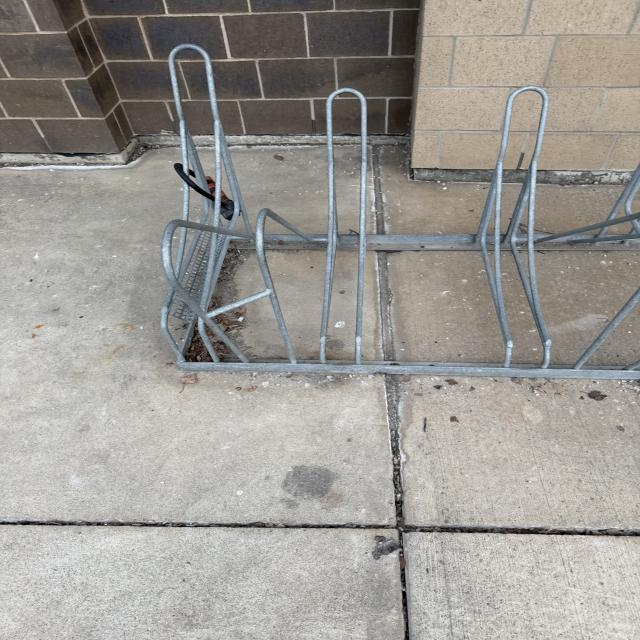Bicycle Rack: (159, 46, 640, 378)
